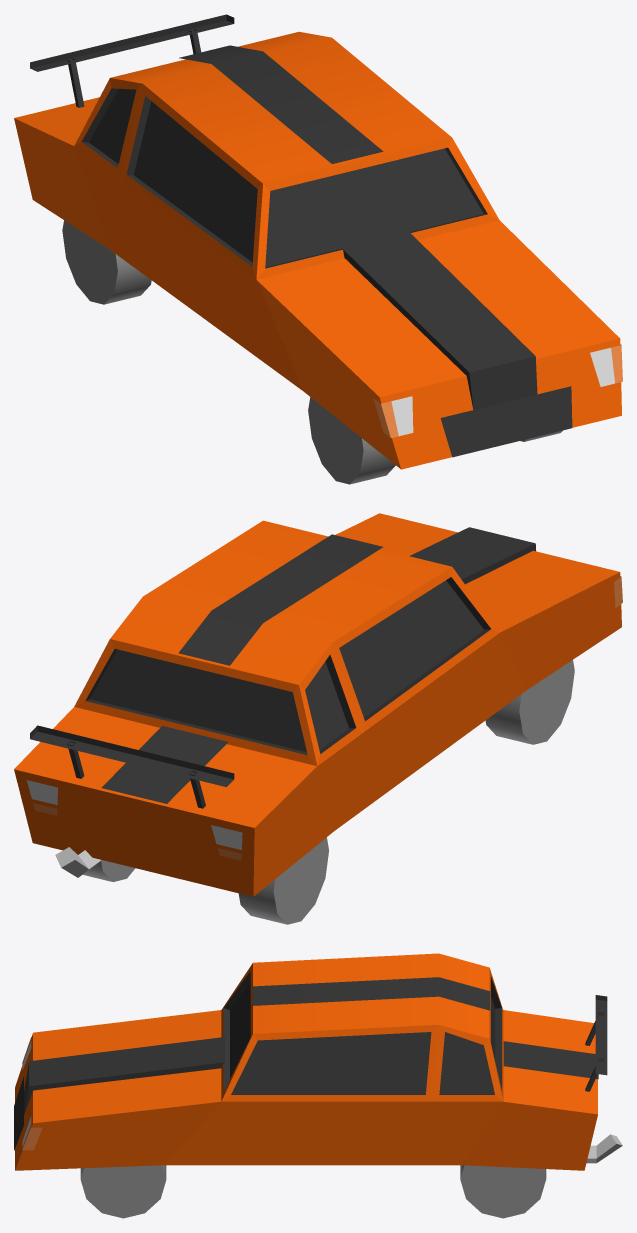
File: sportscar_10.fbx
3 renders of one model, top to bottom at view 1: azimuth 30°, elevation 25°; view 2: azimuth 150°, elevation 25°; view 3: azimuth 270°, elevation 25°, orthographic. The views are drawn at different scales.
Visible parts, largest first — view 1: sportscar_10; view 2: sportscar_10; view 3: sportscar_10.
Part boxes in pixels (x1=…): sportscar_10: x1=14, y1=14, x2=622, y2=484; sportscar_10: x1=14, y1=513, x2=622, y2=924; sportscar_10: x1=14, y1=953, x2=622, y2=1218.
Size of the model in its own units: 1.6 by 1.56 by 4.49.
